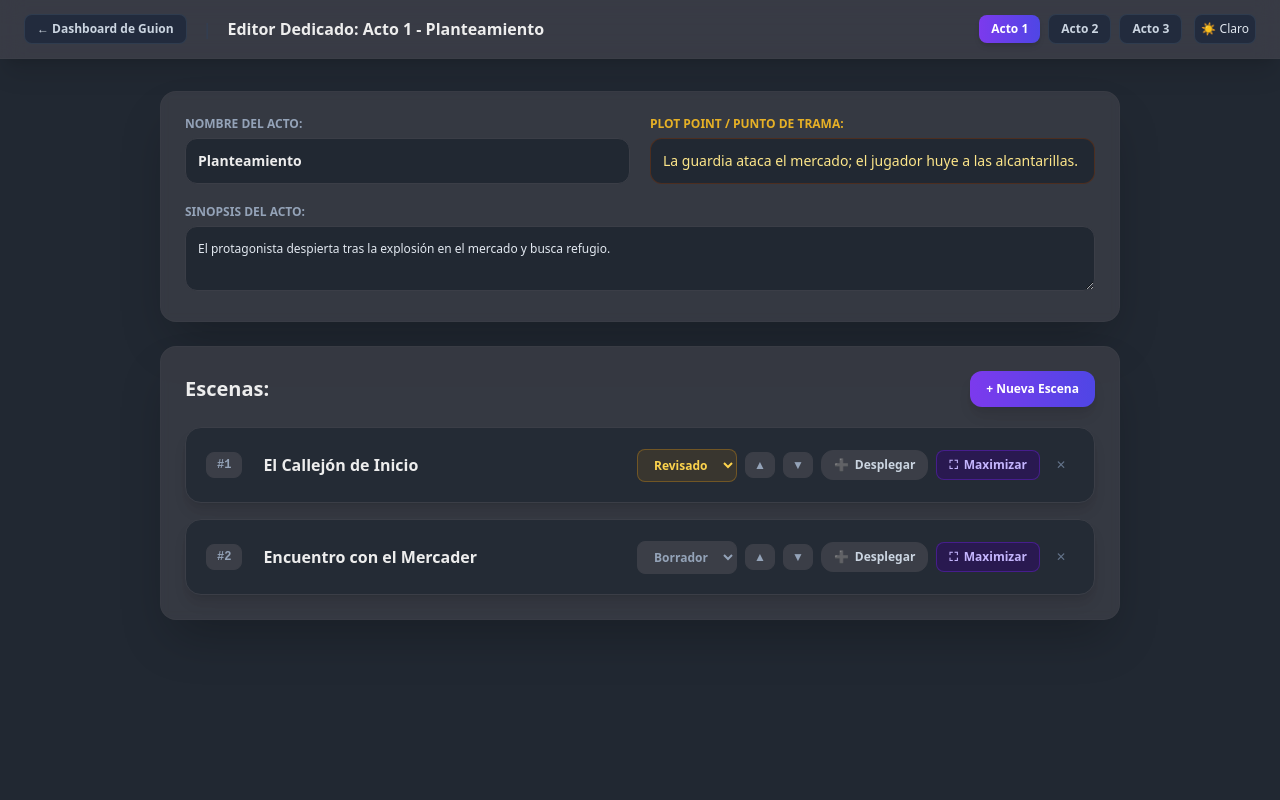
GuionStudio App & Unified Script Dashboard › opens maximized scene window inside EditorActo and handles Aceptar / Cancelar
The width and height of the screenshot is (1280, 800).
// Open Maximize Modal for first scene
Click the 1st button "⛶ Maximizar".
click(988, 465)  # box left=936, top=450, right=1040, bottom=480
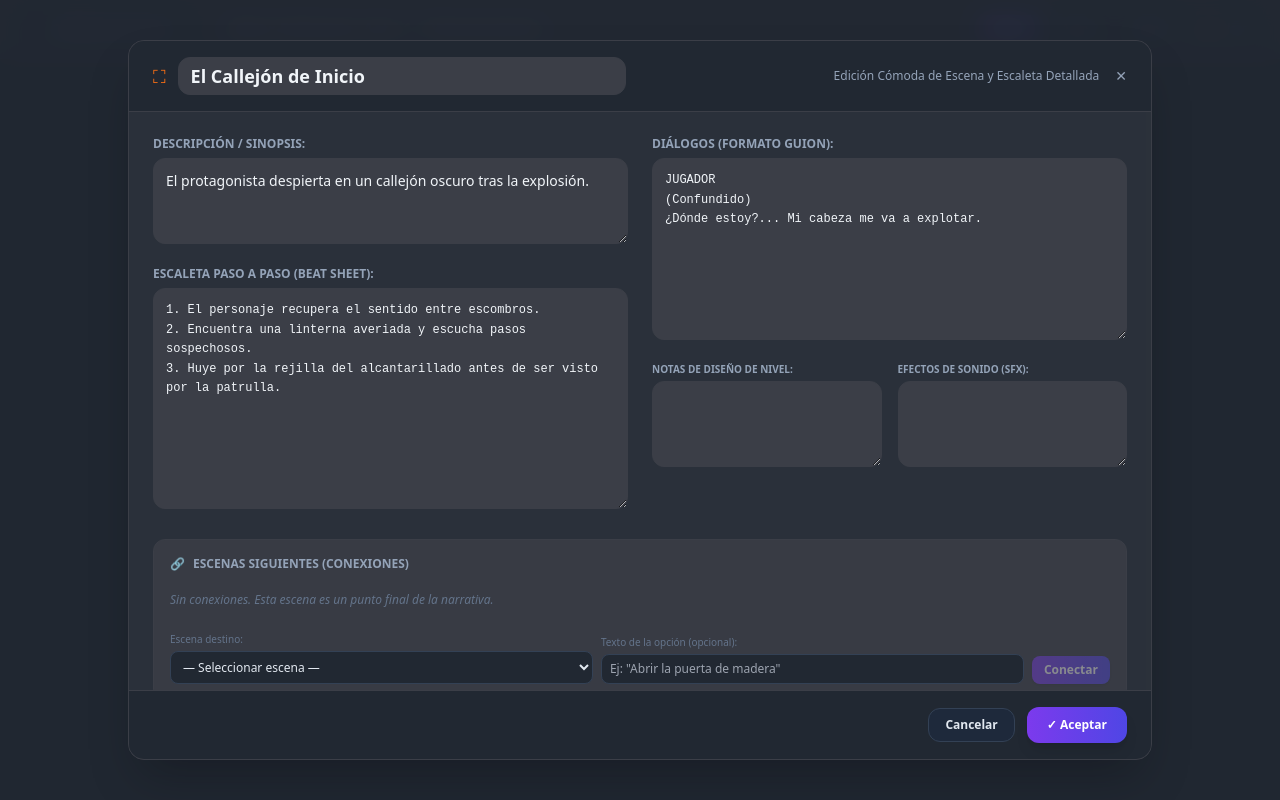
Expected: the heading "Edición Cómoda de Escena y Escaleta Detallada" is shown, left=834, top=68, right=1099, bottom=84
// Modify Title in draft (inside modal)
Replace the text in the field showing "El Callejón de Inicio" with "Callejón Maximizatorio" at coordinates (402, 76), box left=178, top=57, right=626, bottom=95
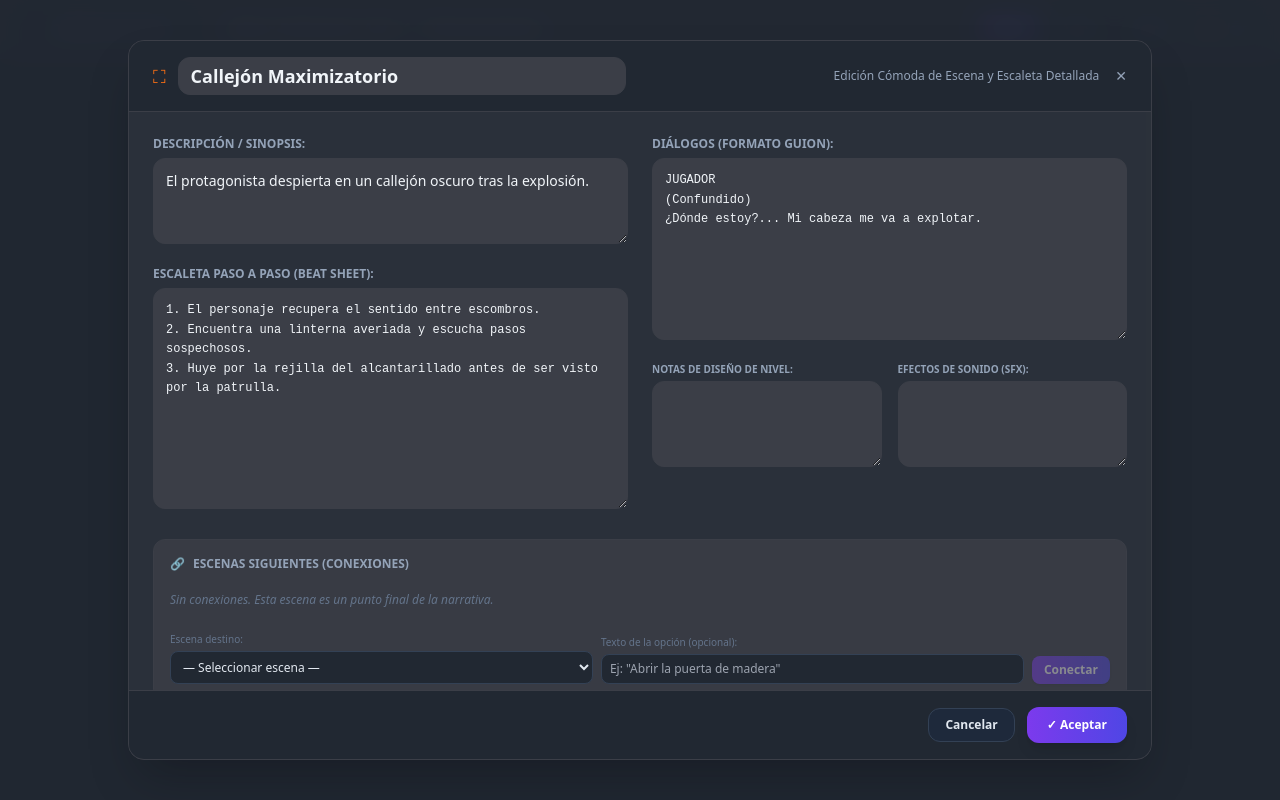
// Click Cancelar
Click the button "Cancelar".
click(972, 725)  # box left=928, top=708, right=1015, bottom=742
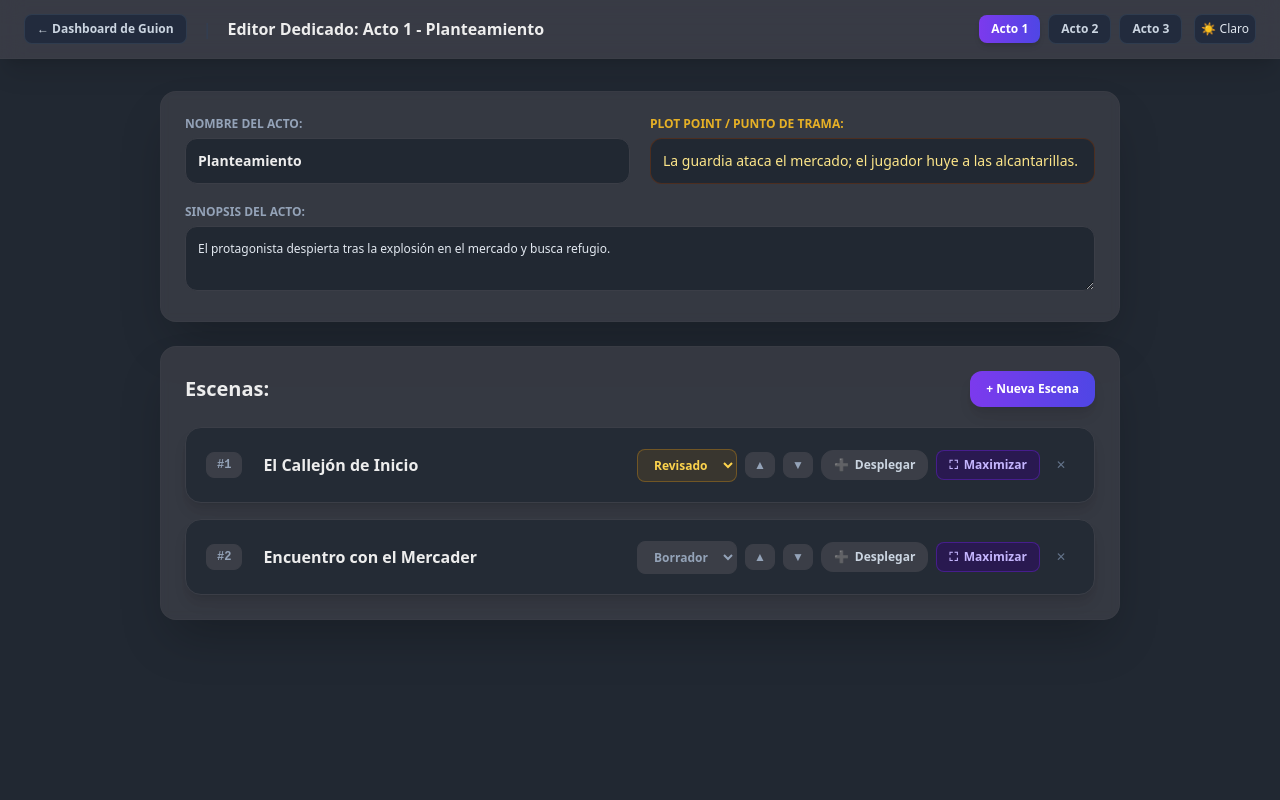
Expected: the field showing "Callejón Maximizatorio" is not shown
Expected: the heading "Edición Cómoda de Escena" is gone
// Open again and click Aceptar
Click the 1st button "⛶ Maximizar".
click(988, 465)  # box left=936, top=450, right=1040, bottom=480
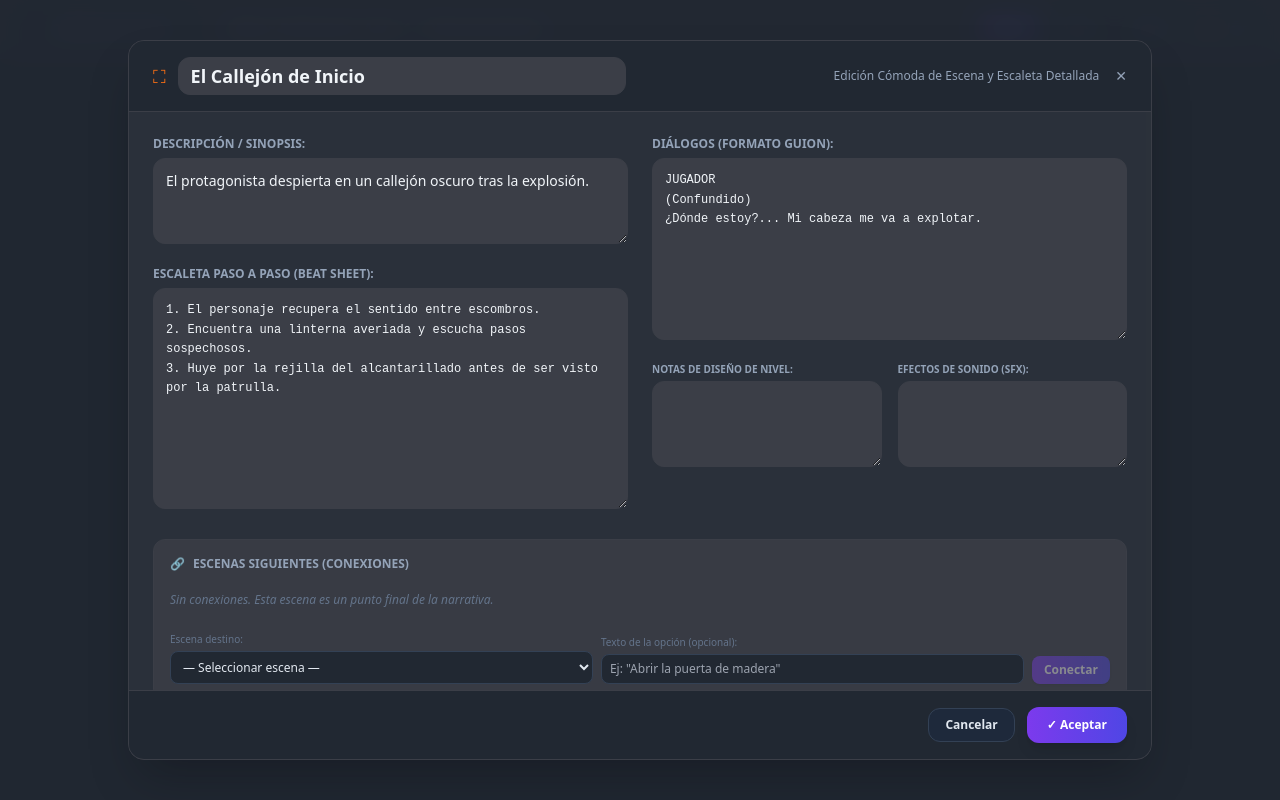
Replace the text in the field showing "El Callejón de Inicio" with "Callejón Confirmado" at coordinates (402, 76), box left=178, top=57, right=626, bottom=95
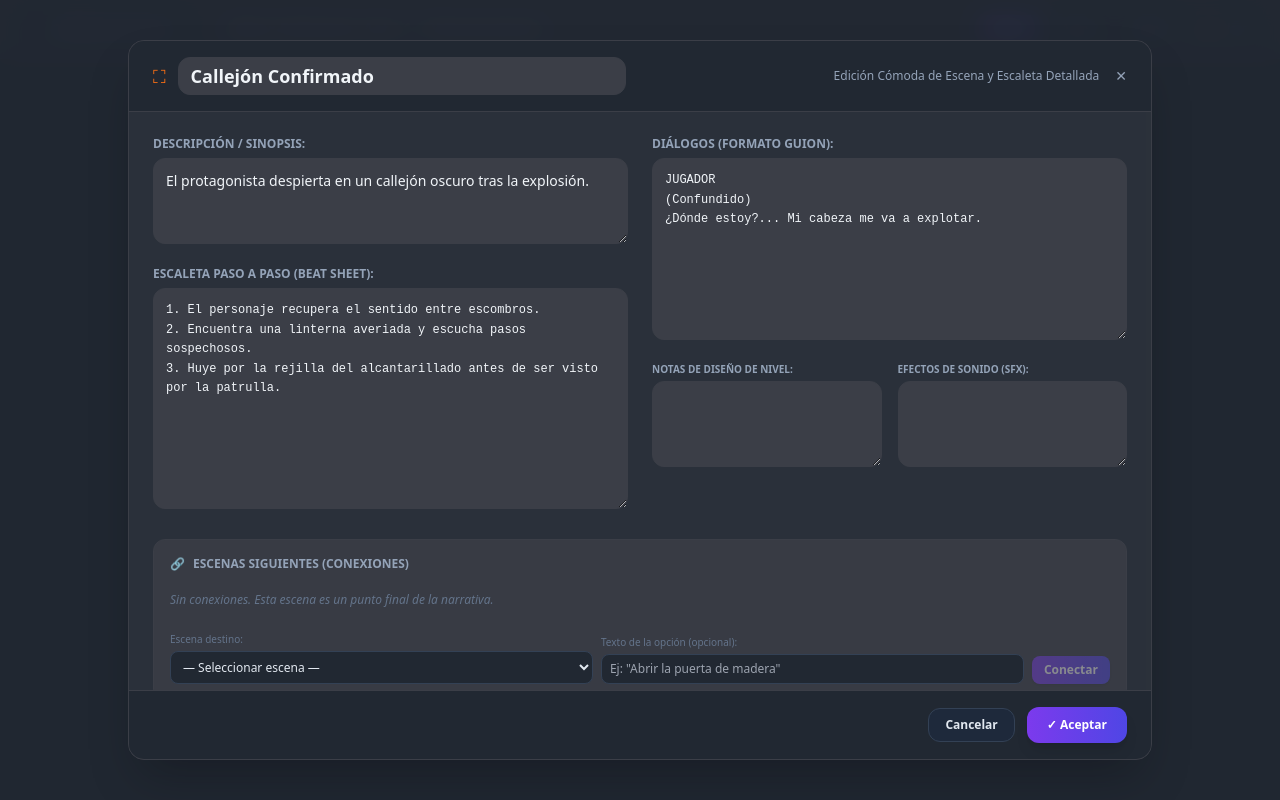
Click the button "✓ Aceptar".
click(1077, 725)  # box left=1027, top=707, right=1127, bottom=743
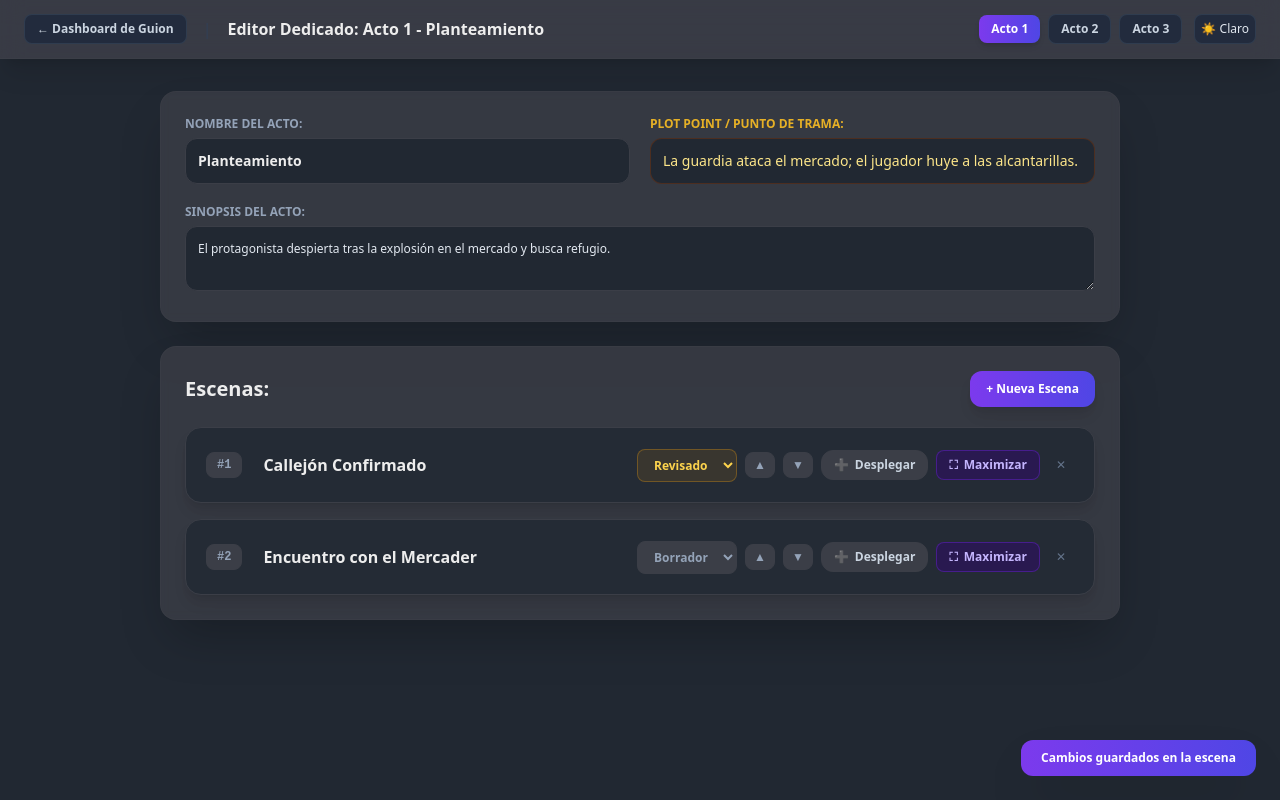
Expected: the 3rd field showing "Callejón Confirmado" is shown, left=254, top=448, right=625, bottom=482
